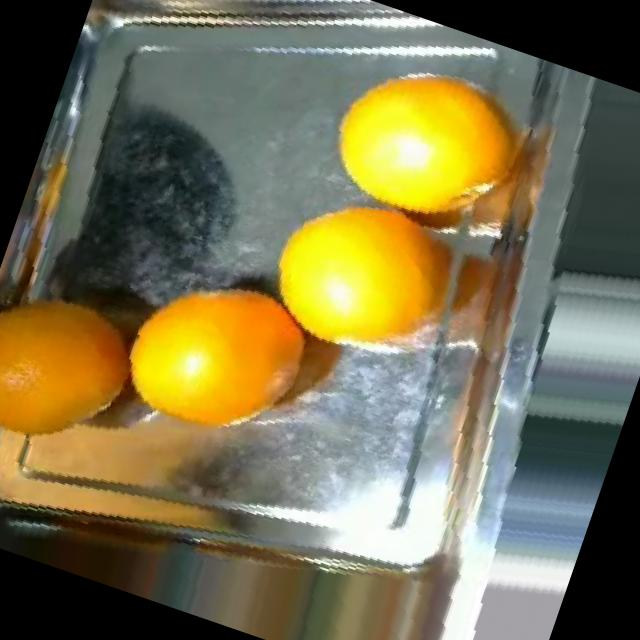Fruit: (235, 156, 501, 394), (302, 20, 550, 256)
